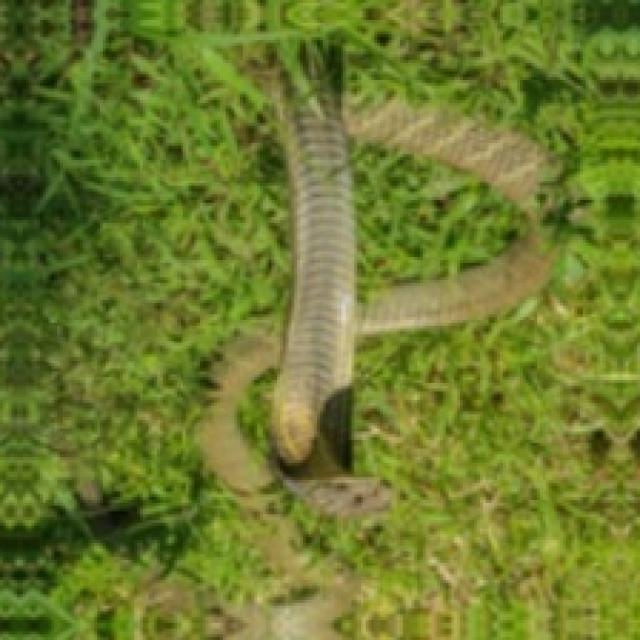king cobra: (189, 0, 560, 511), (346, 134, 526, 306)
